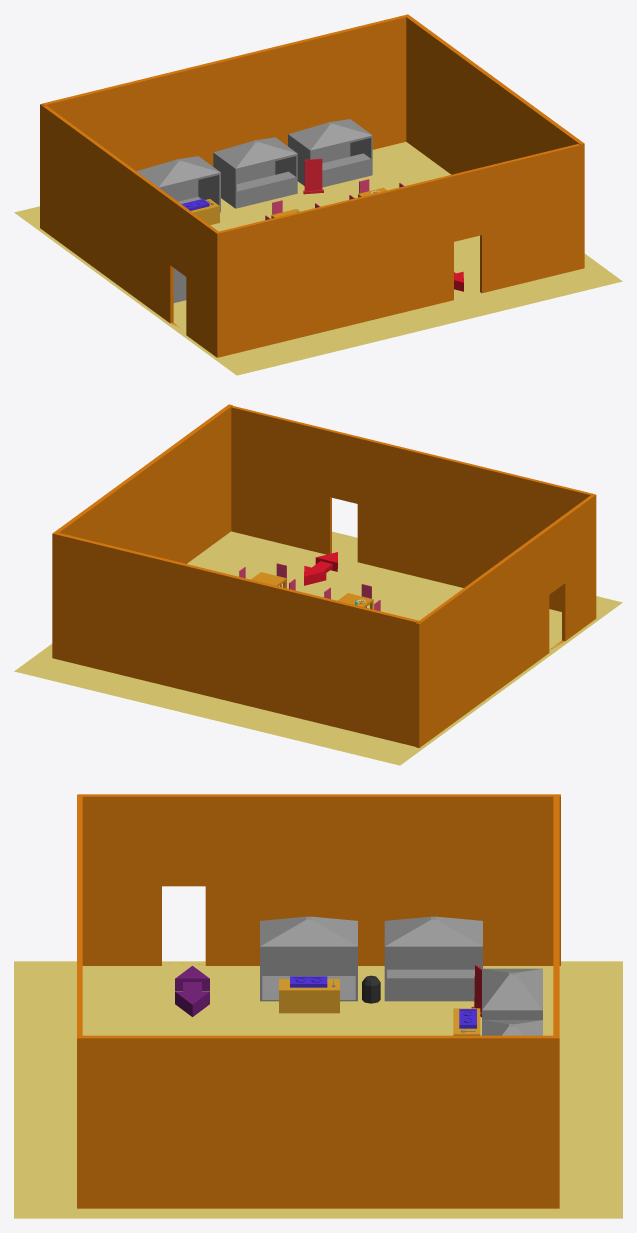
The model's file is FBX Food Court_CLEAN.fbx.
The picture shows the model from 3 angles, top to bottom: view 1: azimuth 30°, elevation 25°; view 2: azimuth 150°, elevation 25°; view 3: azimuth 270°, elevation 25°; orthographic projection. The views are drawn at different scales.
Parts seen in each view (by area): view 1: Wall 2, Wall 4, Wall1, Floor.001, Wall 3, Food Booth 01.001, Food Booth 01.002, Food Booth 02.001, Standee.001; view 2: Wall 4, Wall 2, Wall1, Floor.001, Wall 3, To Hub; view 3: Wall 3, Wall1, Floor.001, Food Booth 01, Food Booth 02, Food Booth 02.001, Booth Table, Wall 4, Wall 2, To Toilet, Food Booth 01.001.
Boxes of the visible parts, box(x1,y1,x2,y2) form: Wall 2: box(217, 144, 584, 357); Wall 4: box(42, 15, 407, 170); Wall1: box(40, 104, 218, 357); Floor.001: box(14, 142, 622, 375); Wall 3: box(404, 14, 584, 174); Food Booth 01.001: box(213, 137, 297, 208); Food Booth 01.002: box(288, 119, 372, 187); Food Booth 02.001: box(136, 156, 220, 212); Standee.001: box(303, 158, 323, 194); Wall 4: box(56, 533, 420, 746); Wall 2: box(231, 406, 593, 611); Wall1: box(416, 494, 596, 747); Floor.001: box(14, 531, 622, 765); Wall 3: box(52, 404, 232, 659); To Hub: box(304, 552, 337, 585); Wall 3: box(77, 1035, 559, 1208); Wall1: box(77, 794, 560, 965); Floor.001: box(14, 961, 622, 1218); Food Booth 01: box(384, 916, 482, 1001); Food Booth 02: box(260, 916, 357, 1001); Food Booth 02.001: box(482, 968, 542, 1019); Booth Table: box(279, 979, 339, 1013); Wall 4: box(553, 794, 559, 1037); Wall 2: box(77, 795, 82, 1208); To Toilet: box(175, 966, 209, 1016); Food Booth 01.001: box(482, 1020, 542, 1035).
Size of the model in its own units: 2000 by 617 by 2000.
